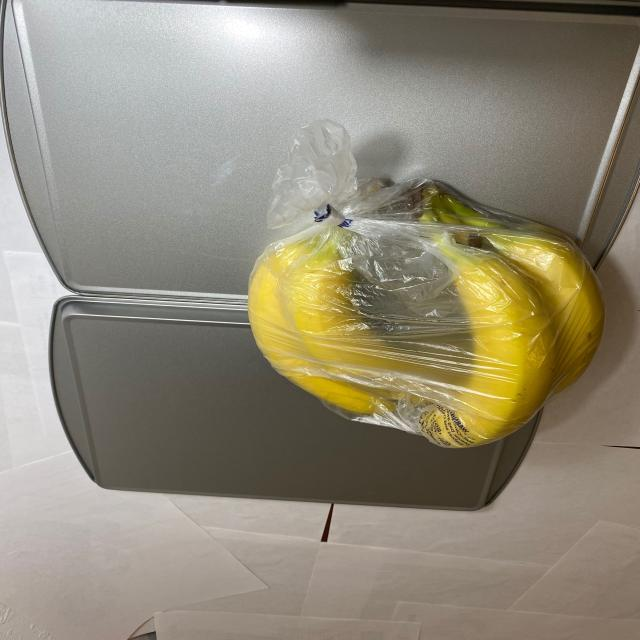banana: (244, 168, 607, 452)
